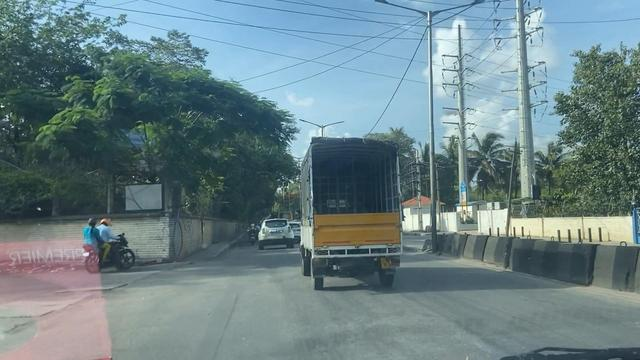HMV: (300, 136, 401, 287)
LMV: (259, 219, 294, 247)
RoadDamages: (0, 268, 156, 340)
